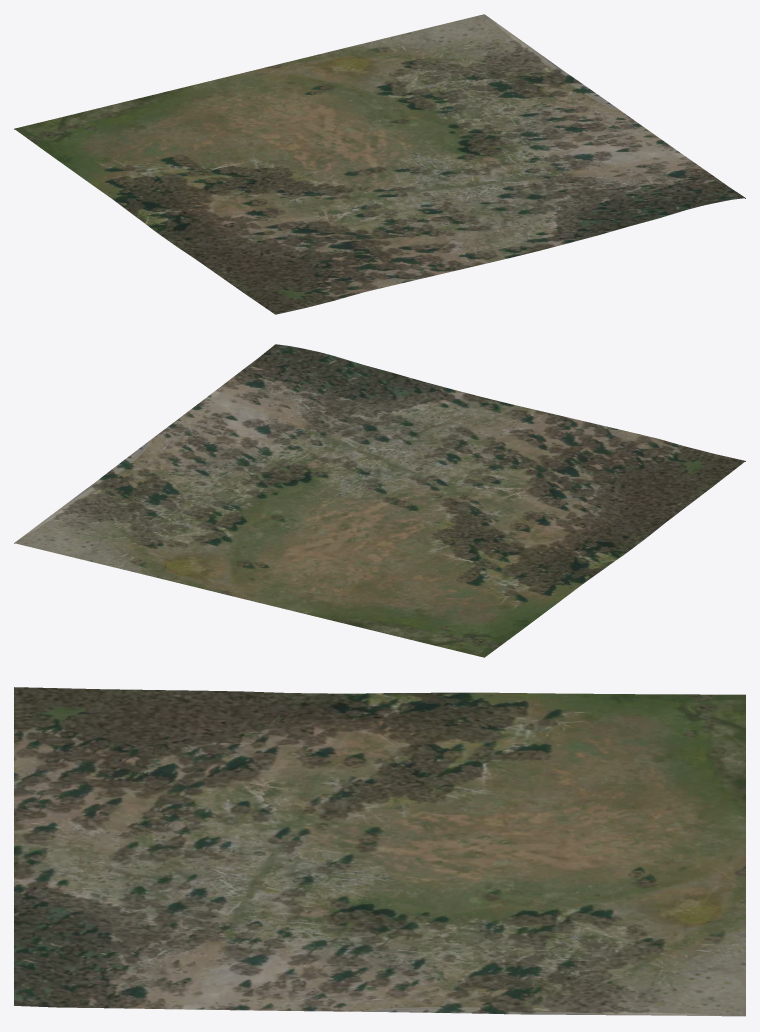
The picture shows the model from 3 angles, top to bottom: view 1: azimuth 30°, elevation 25°; view 2: azimuth 150°, elevation 25°; view 3: azimuth 270°, elevation 25°; orthographic projection. The views are drawn at different scales.
Bounding box in the file's own units: 500 × 11.61 × 481.
Materials: 1 (1 with a texture image).
